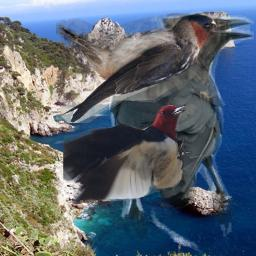Crow: (109, 7, 254, 239)
Swallow: (56, 13, 226, 123)
Woodpecker: (63, 99, 199, 204)
